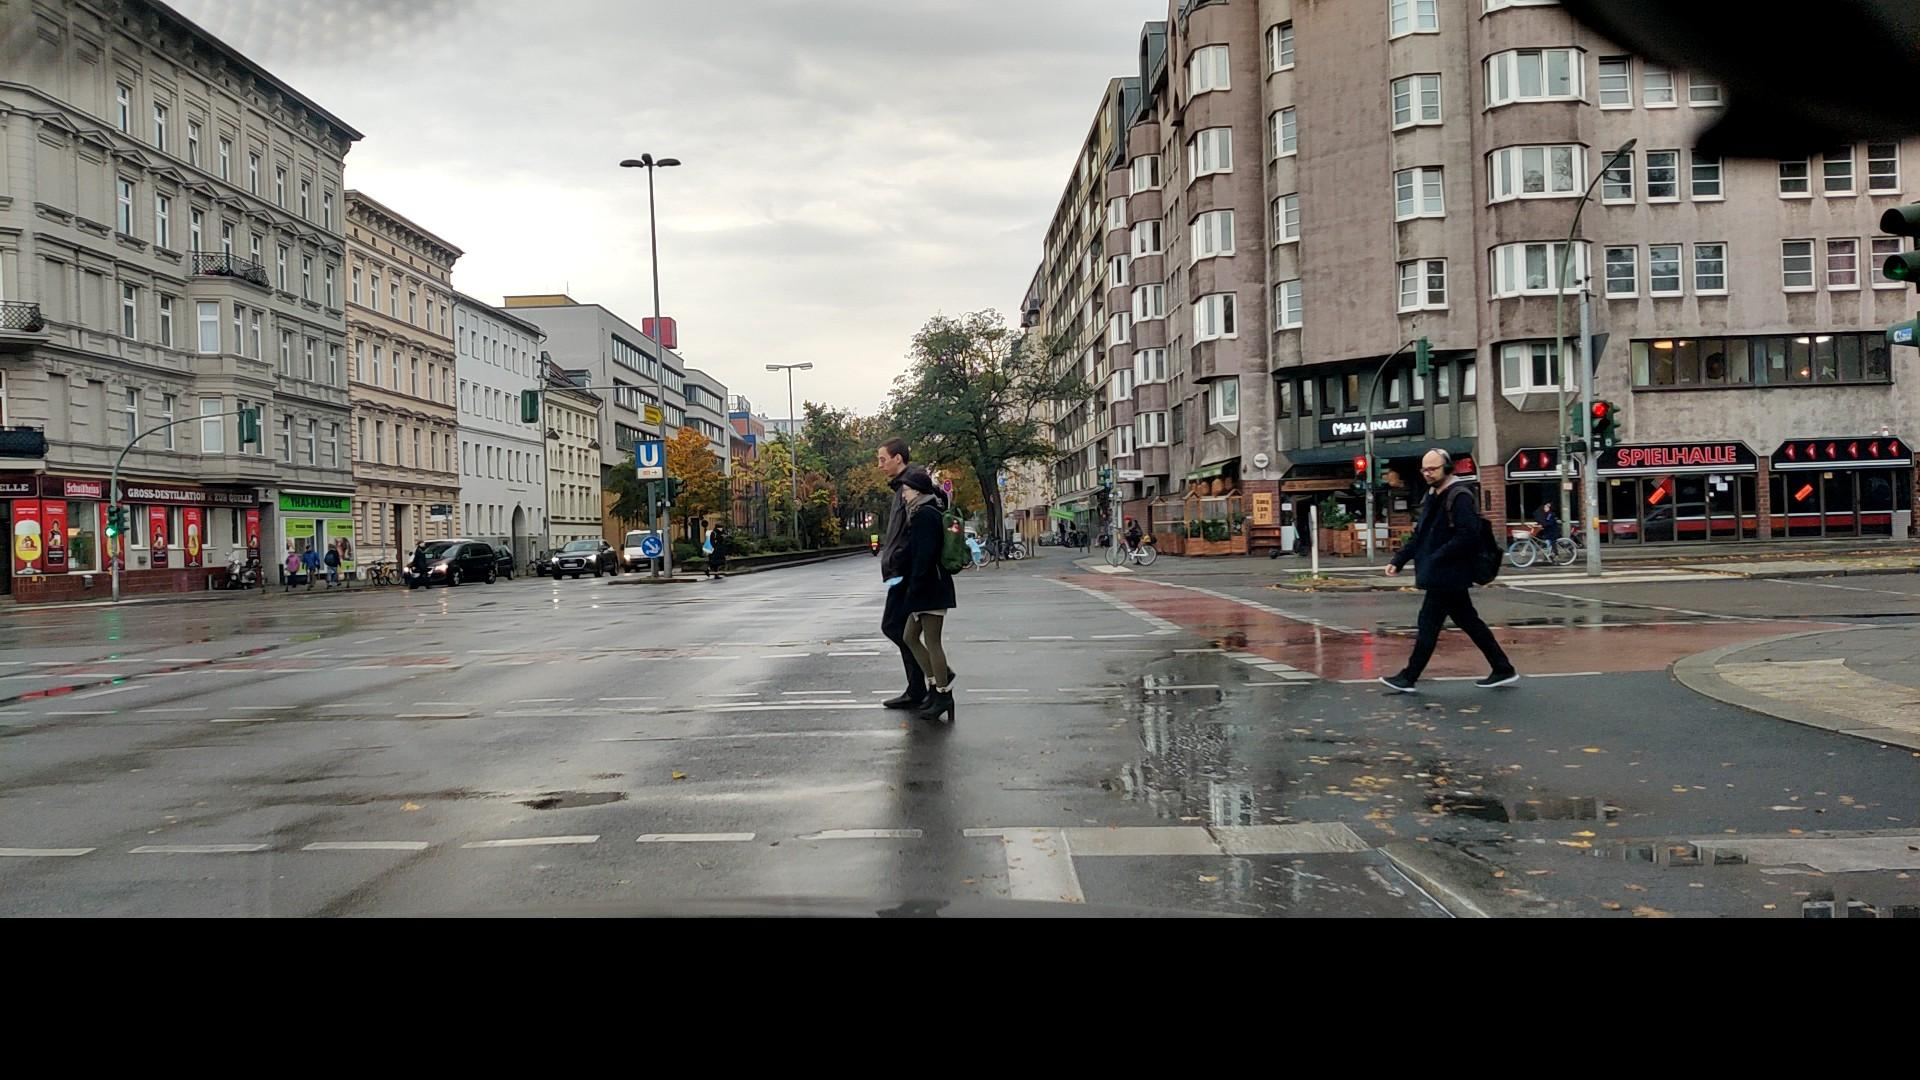Human face: (1420, 449, 1454, 486), (875, 442, 906, 479), (901, 476, 924, 504)
